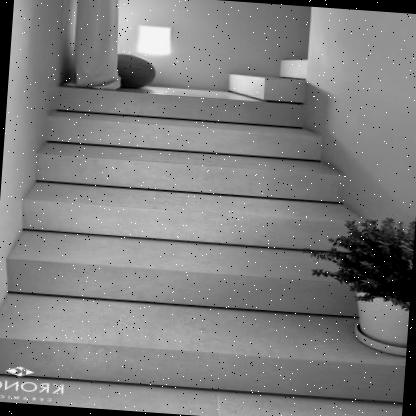stair: (0, 55, 371, 416)
